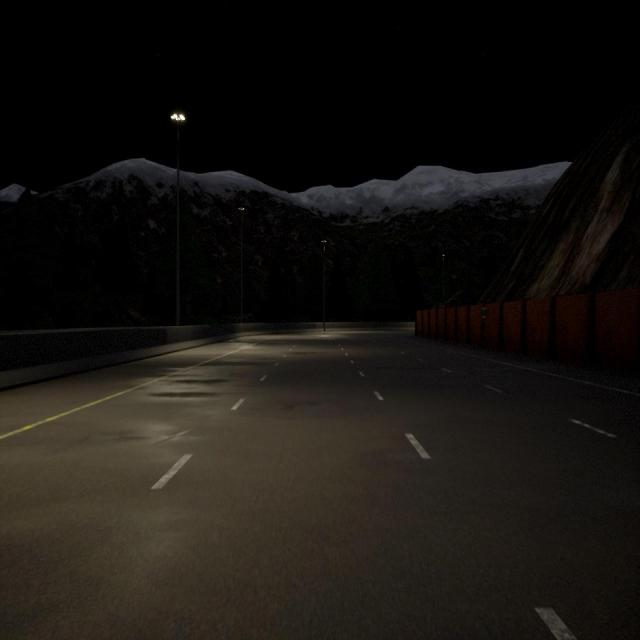Traffic_Signs: (479, 307, 488, 318)
